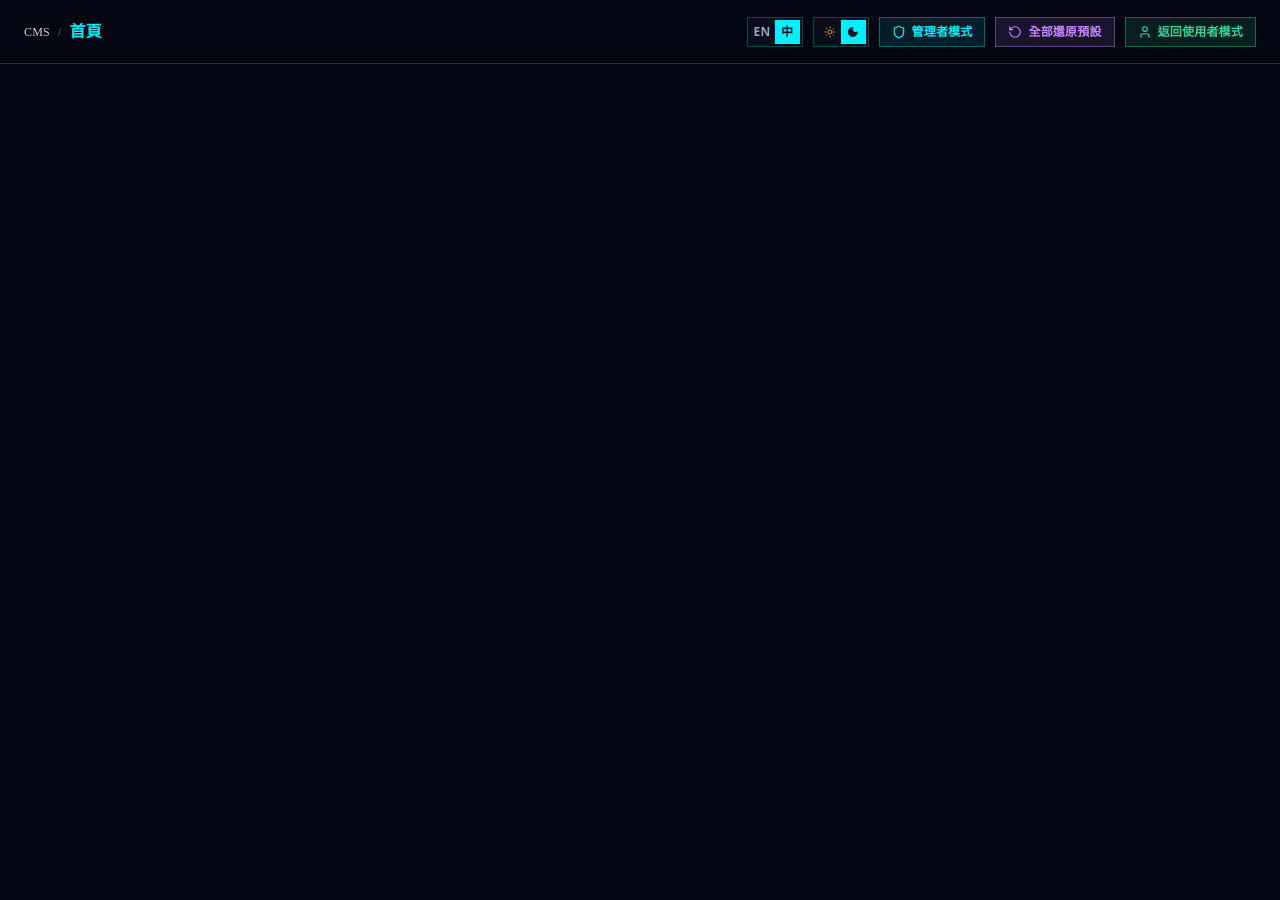
Test: CMS 頂部導覽列按鈕操作與雲端同步流程測試 › 點擊「全部還原預設」按鈕跳出對話框，取消後關閉且不重置
Click the button "全部還原預設" at (1055, 32), box 996,16 -> 1115,46
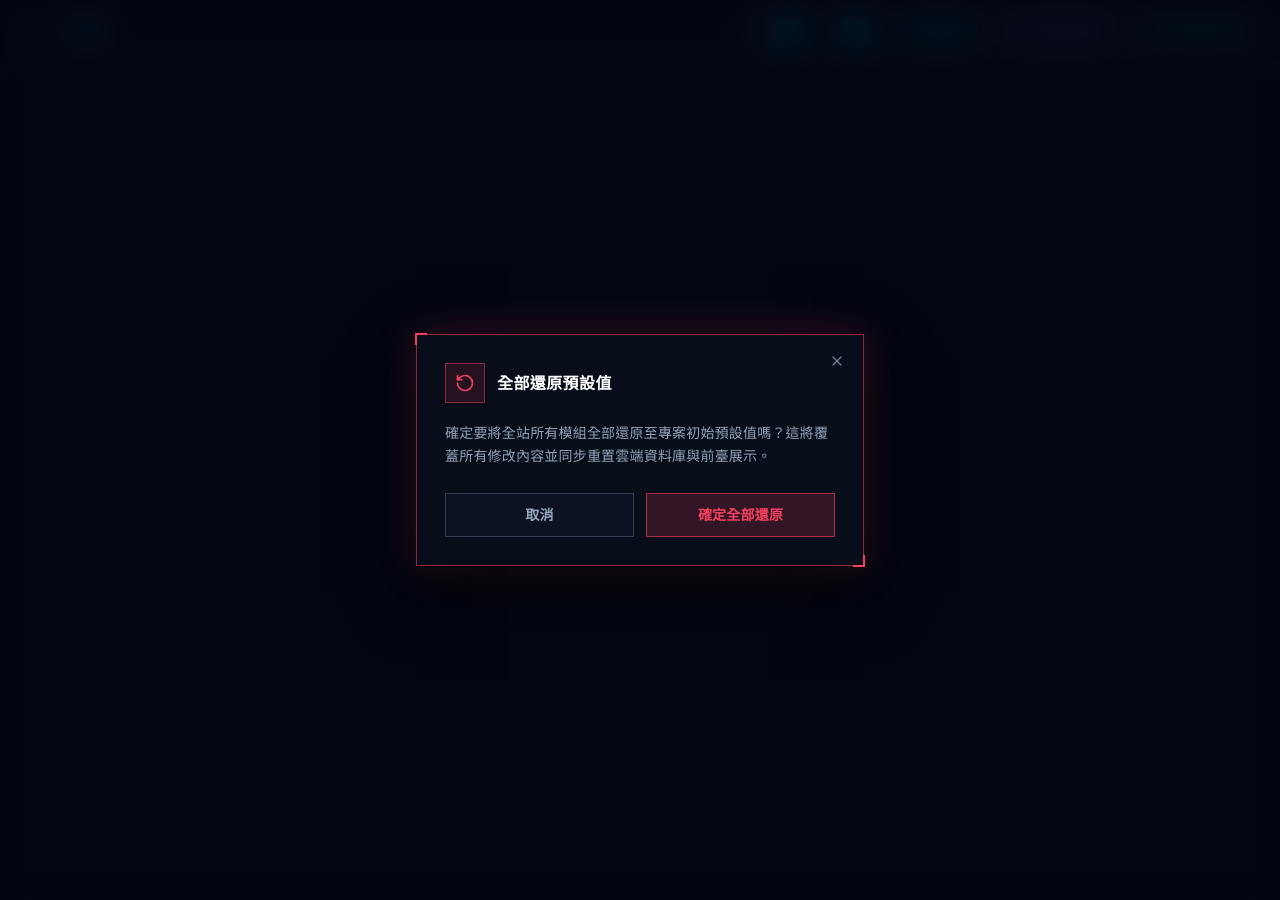
Expected: the text "確定要將全站所有模組全部還原至專案初始預設值嗎？這將覆蓋所有修改內容並同步重置雲端資料庫與前臺展示。" is shown, 445,423 -> 835,469
Click the button "取消" at (540, 515), box 445,493 -> 634,537
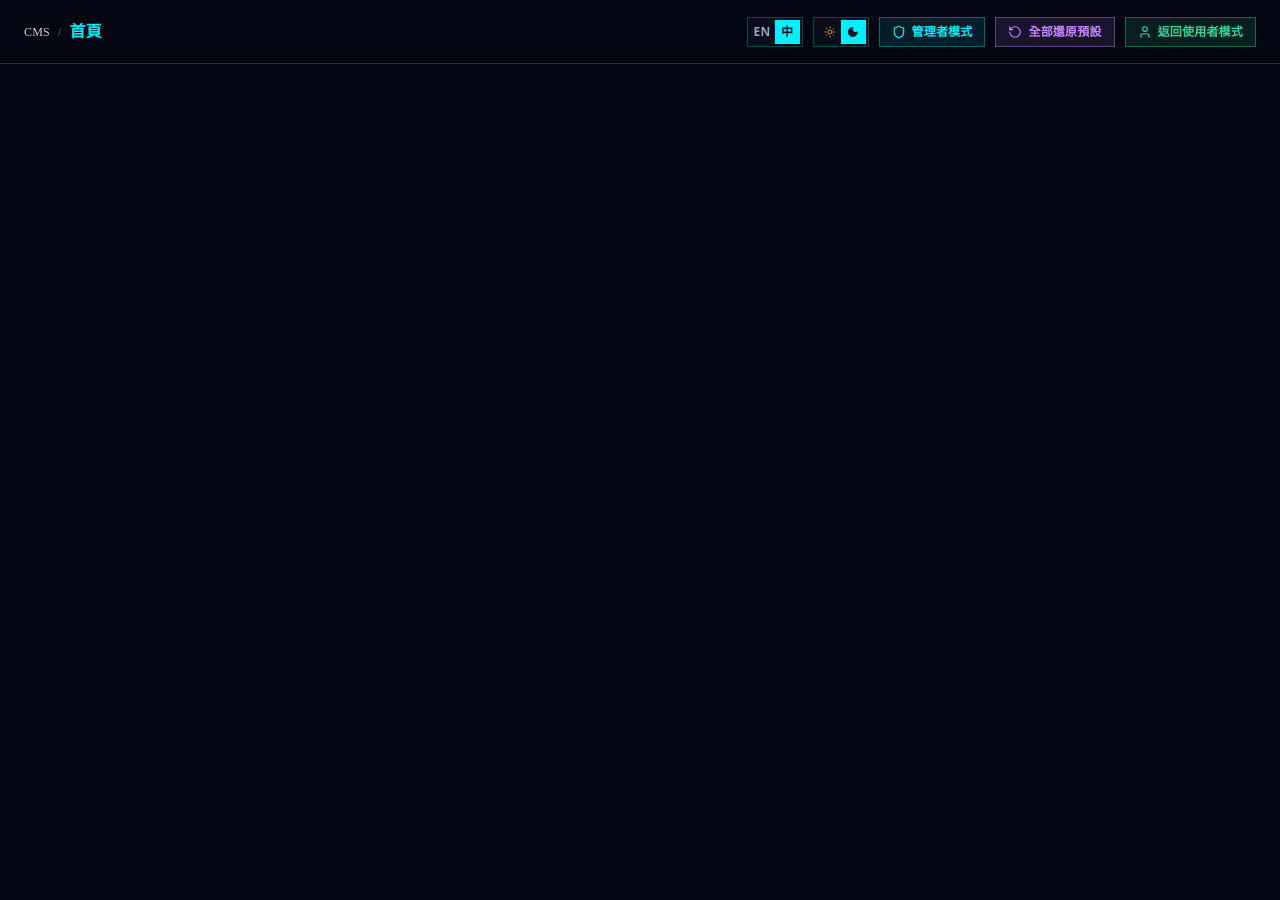
Expected: the text "確定要將全站所有模組全部還原至專案初始預設值嗎" is gone
